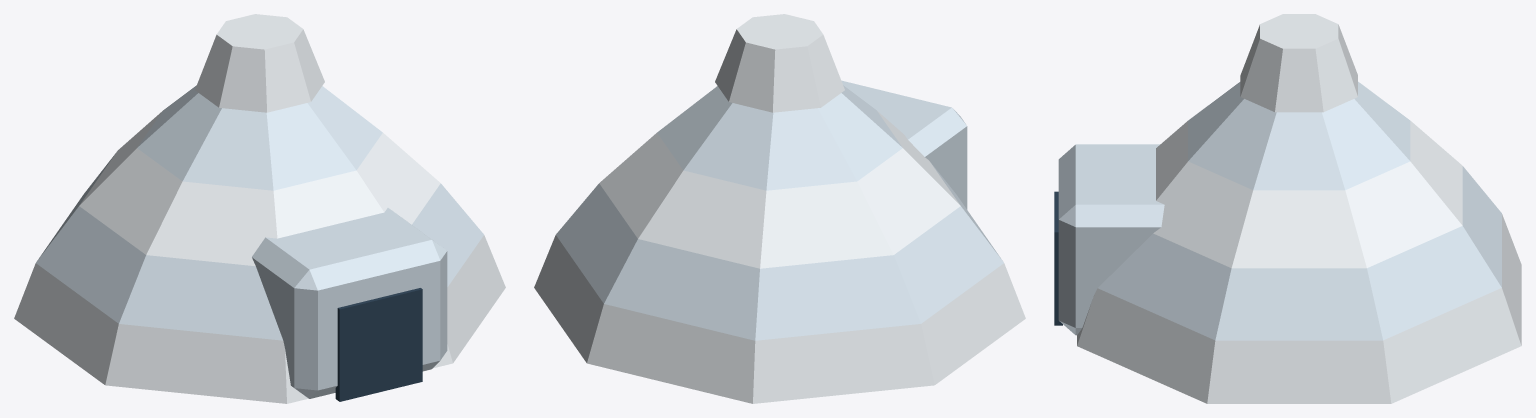
The model's file is env_r2_igloo.glb.
3 views of the same model, side by side, from view 1: azimuth 30°, elevation 25°; view 2: azimuth 150°, elevation 25°; view 3: azimuth 270°, elevation 25° (orthographic).
Visible parts, largest first — view 1: env_r2_igloo; view 2: env_r2_igloo; view 3: env_r2_igloo.
Boxes of the visible parts, left/top/right/bottom form: env_r2_igloo: left=14, top=14, right=505, bottom=403; env_r2_igloo: left=534, top=14, right=1025, bottom=403; env_r2_igloo: left=1054, top=14, right=1521, bottom=403.
Size of the model in its own units: 3.4 by 2.2 by 3.4.
Materials: 1 (1 with a texture image).
